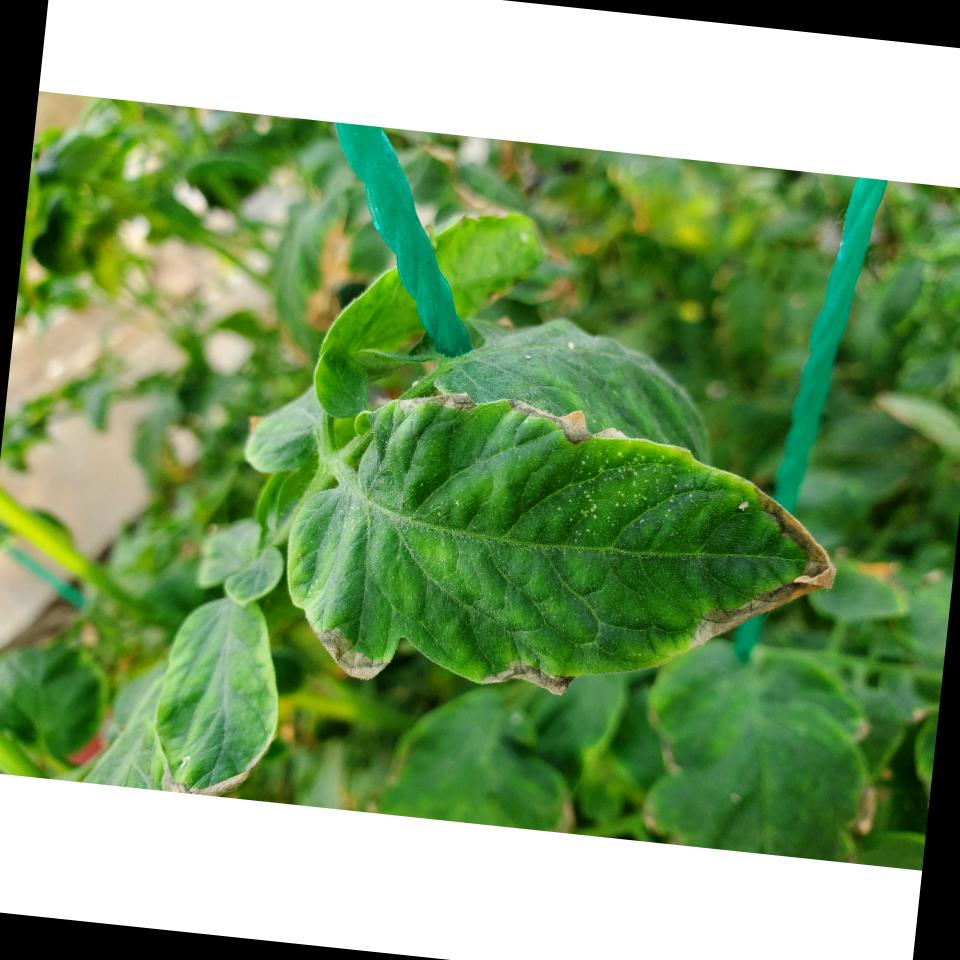tomato_bacterial_blight: (264, 375, 869, 730)
